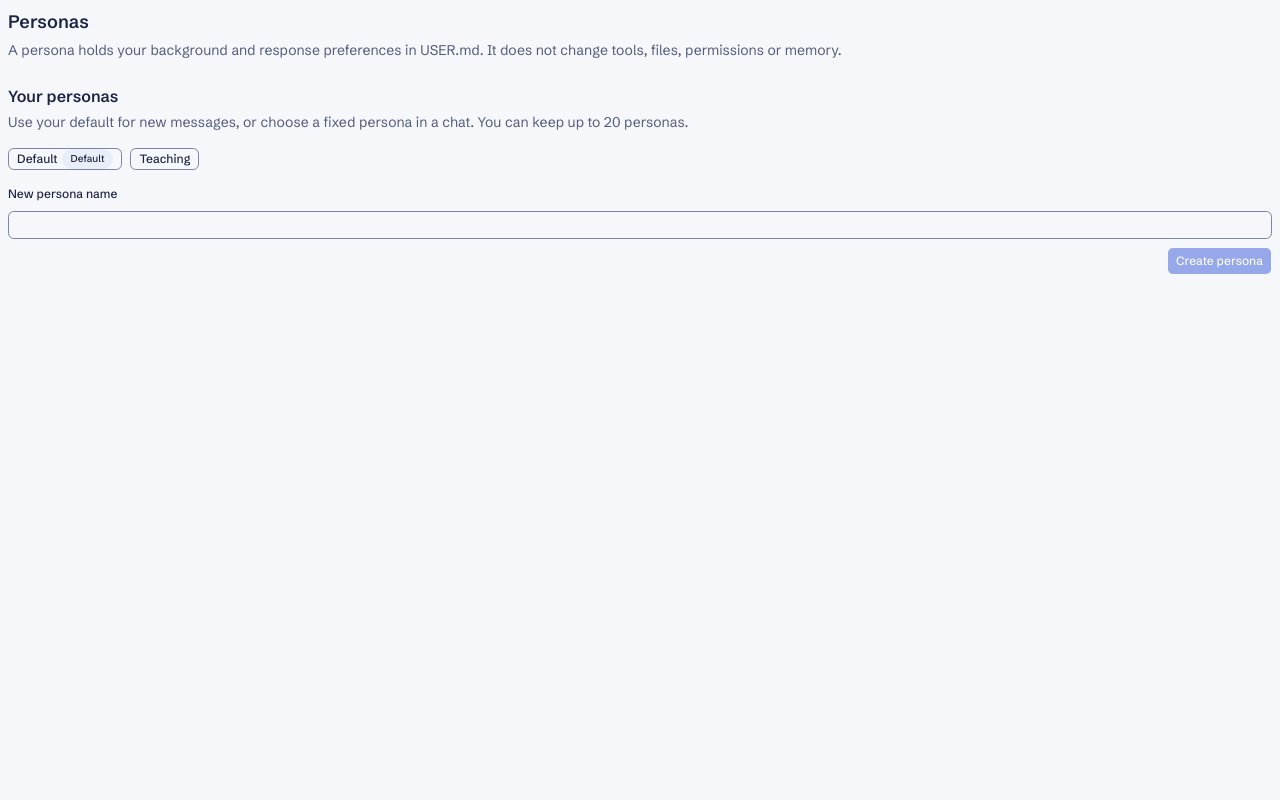
Test: keeps a local draft when cached refresh fails
This screenshot has width=1280, height=800.
Click the button with aria-label "Edit persona Teaching". click: (165, 159)
box: [130, 148, 199, 170]
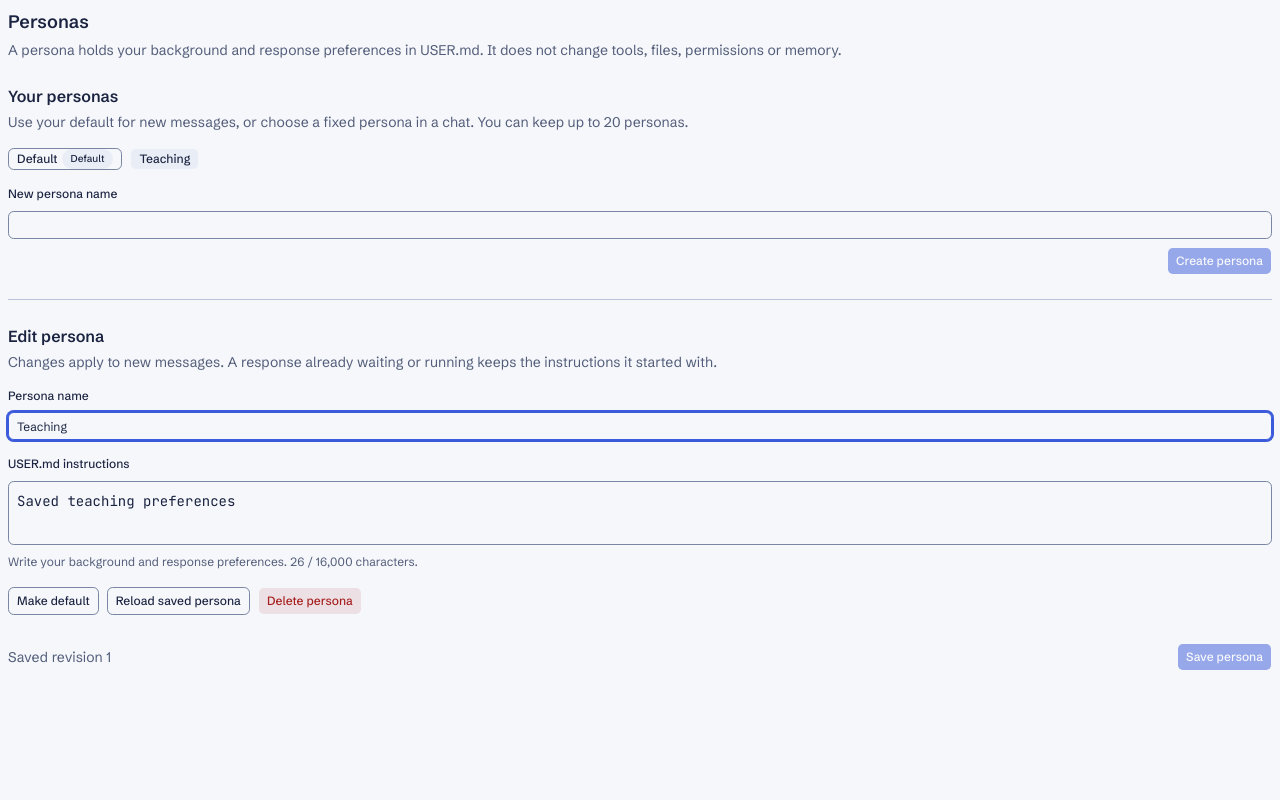
Type " Local change" into the text box labelled "USER.md instructions". click: (640, 512)
box: [8, 480, 1272, 544]
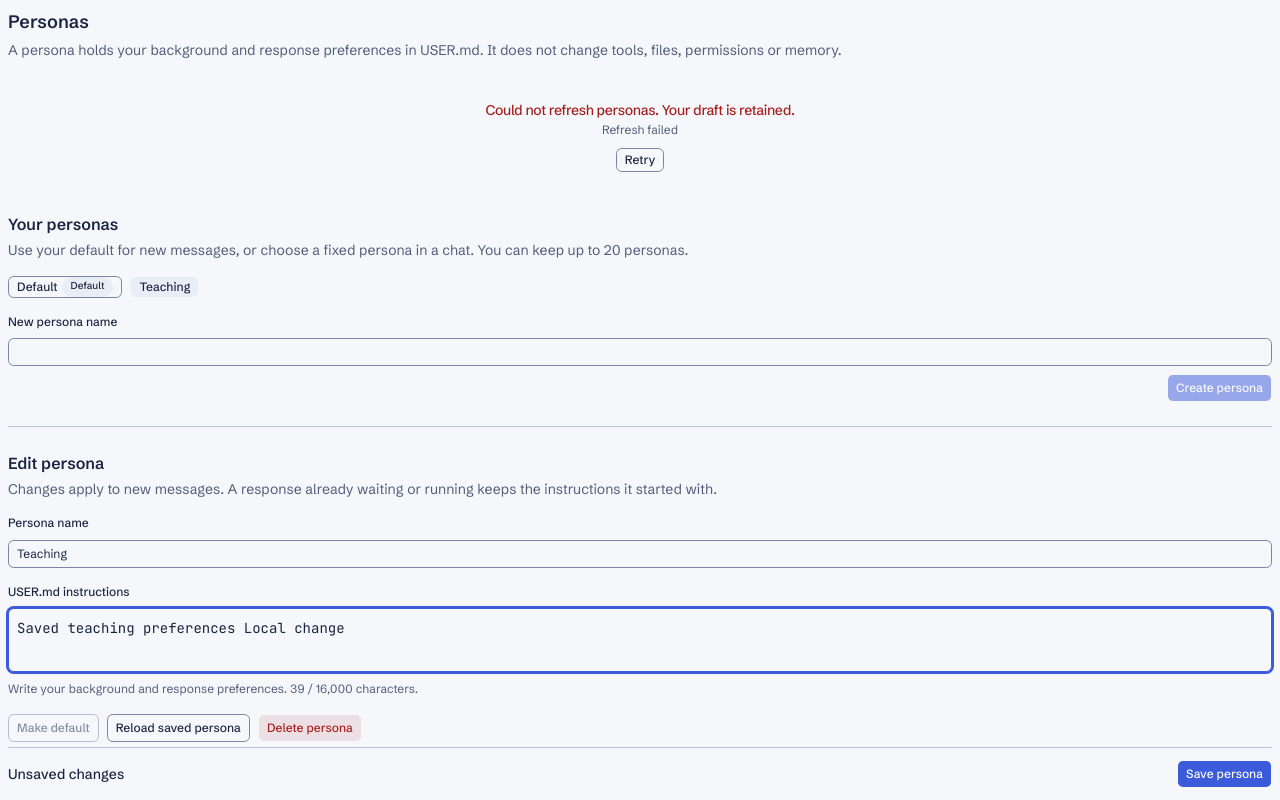
Check: the text "Could not refresh personas. Your draft is retained." is shown, box [485, 100, 795, 120]
Check: the text box labelled "USER.md instructions" holds "Saved teaching preferences Local change", box [8, 608, 1272, 672]
